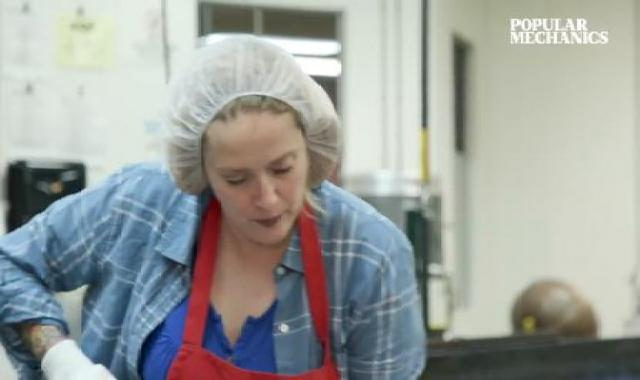hairnet: (170, 34, 356, 197)
